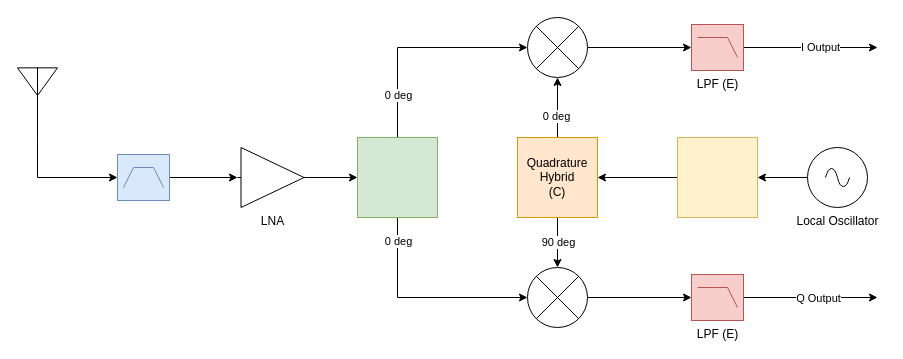
This 903x359 diagram has some shape labels left out. Each missing label, with the centre of its shape:
"BPF (A)" belongs at (x=143, y=177).
"LO Matching (D)" belongs at (x=717, y=177).
"Power Divider (B)" belongs at (x=397, y=177).
